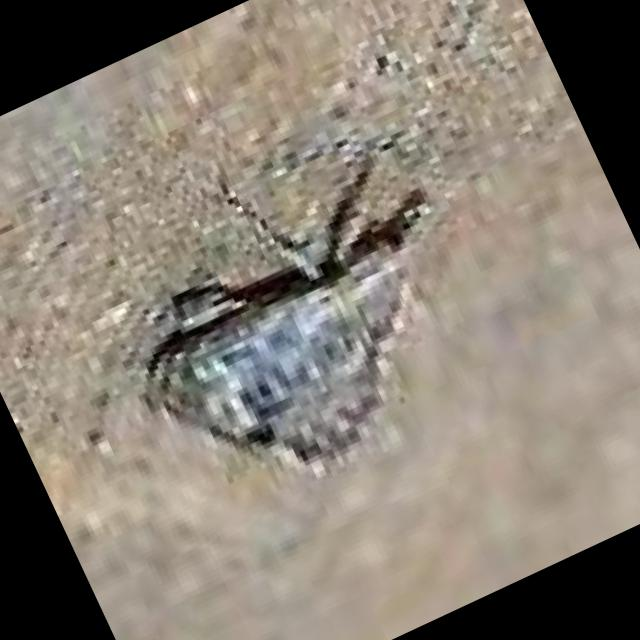rice-bug: (80, 120, 514, 530)
